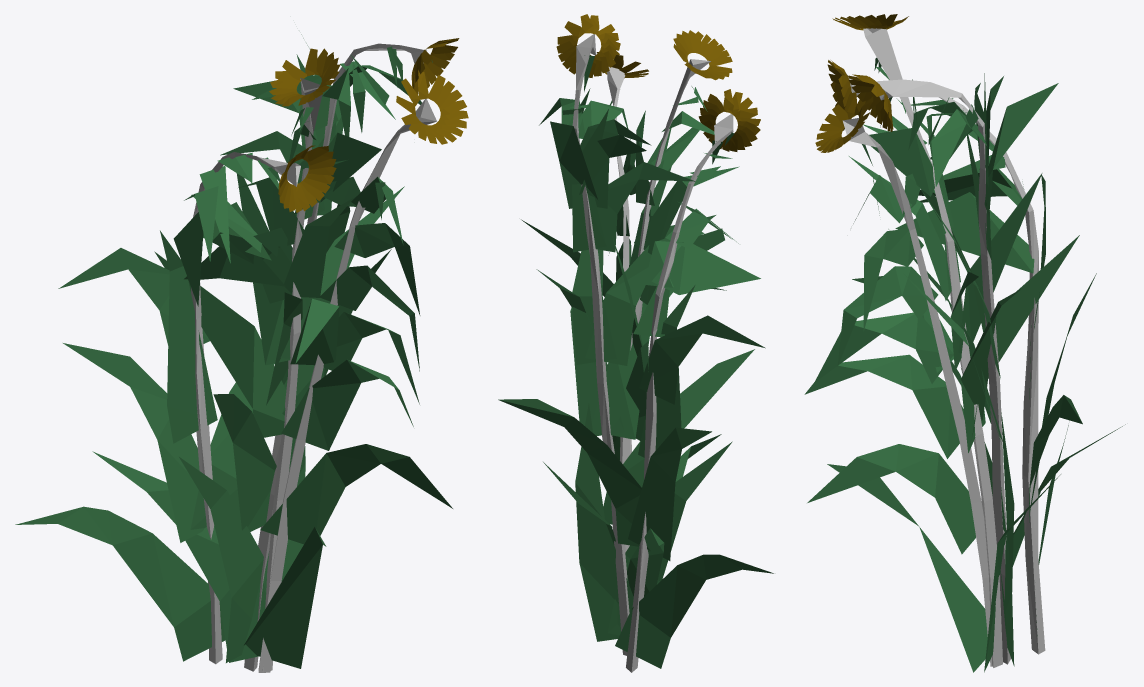
Rendered from Sunflower.fbx.
3 renders of one model, left to right at view 1: azimuth 30°, elevation 25°; view 2: azimuth 150°, elevation 25°; view 3: azimuth 270°, elevation 25°, orthographic. The views are drawn at different scales.
Parts seen in each view (by area): view 1: sunflower1Leaf, sunflower1Main, sunflower1Flower; view 2: sunflower1Leaf, sunflower1Main, sunflower1Flower; view 3: sunflower1Leaf, sunflower1Main, sunflower1Flower.
Part boxes in pixels (left/top/right/bottom): sunflower1Leaf: left=15, top=34, right=452, bottom=668; sunflower1Main: left=191, top=43, right=436, bottom=672; sunflower1Flower: left=269, top=38, right=468, bottom=212; sunflower1Leaf: left=498, top=55, right=773, bottom=668; sunflower1Main: left=572, top=34, right=733, bottom=672; sunflower1Flower: left=556, top=14, right=760, bottom=151; sunflower1Leaf: left=804, top=57, right=1125, bottom=672; sunflower1Main: left=842, top=28, right=1045, bottom=667; sunflower1Flower: left=815, top=14, right=908, bottom=152.
Bounding box in the file's own units: 1.34 × 2.45 × 1.11.
